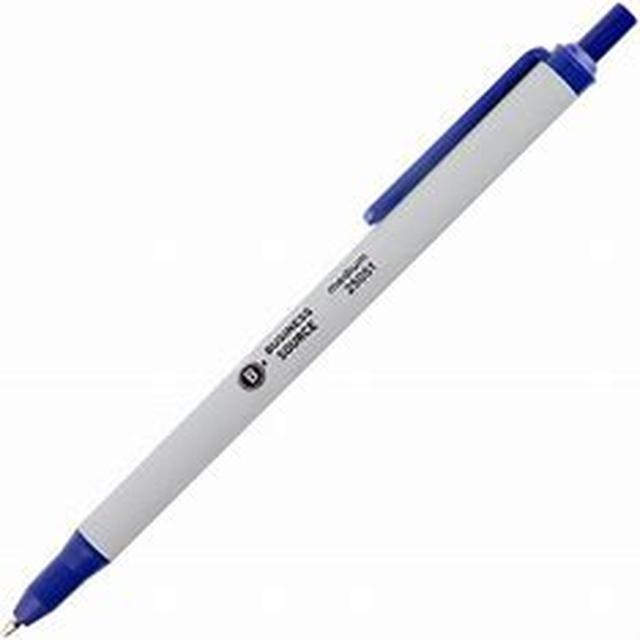pen: (8, 12, 636, 634)
